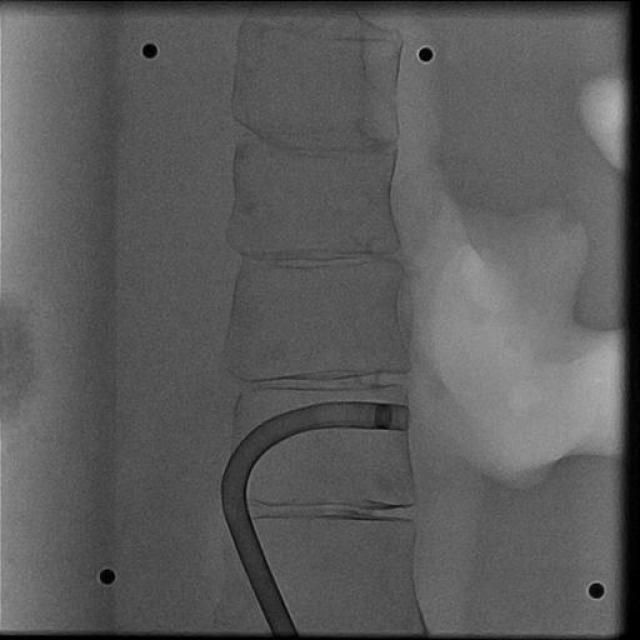bend: (221, 487, 246, 502)
entry: (272, 630, 298, 636)
marker: (374, 402, 391, 428)
tip: (398, 406, 412, 432)
